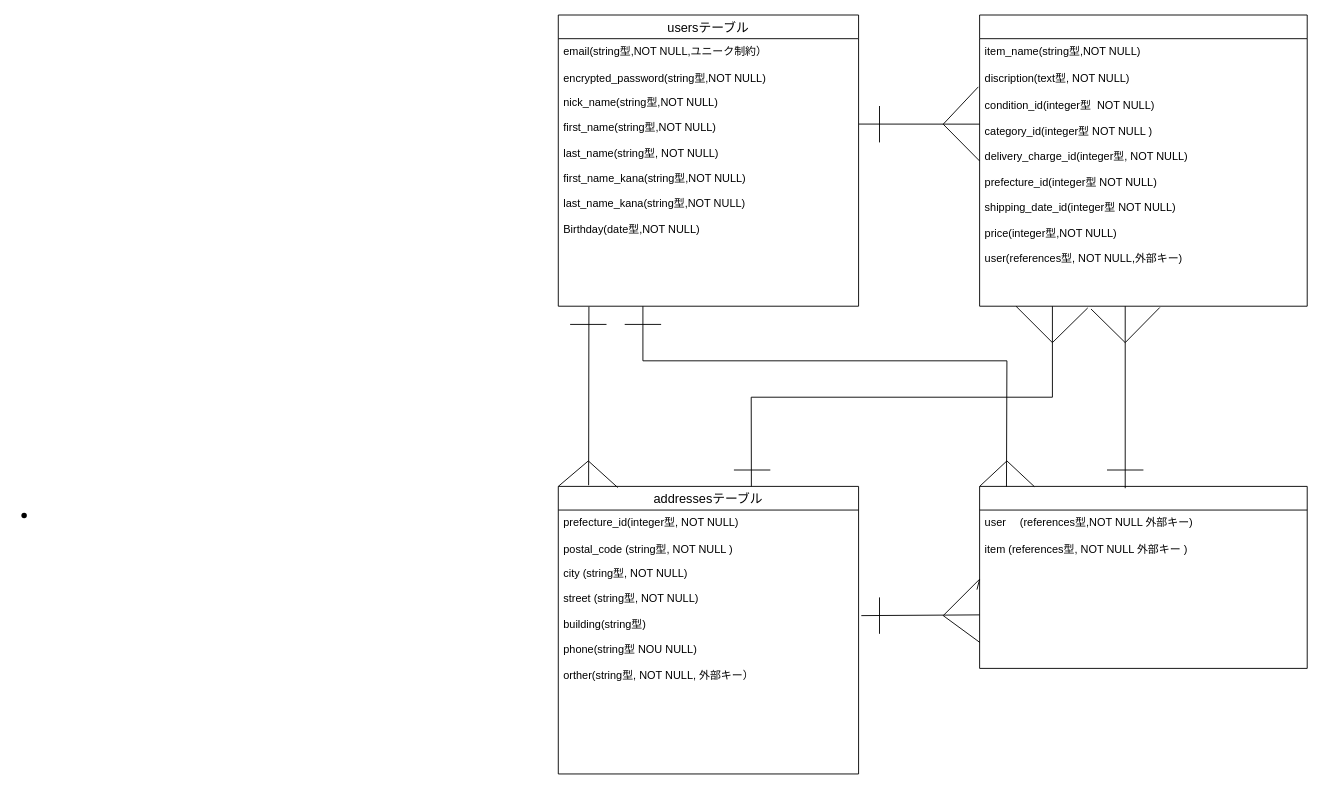
This 1322x789 diagram has some shape labels left out. Here are the shapes that lost their labels. From the top down, the box of each, then its label:
(979, 14, 1307, 306): itemsテーブル
(979, 485, 1307, 668): ordersテーブル
